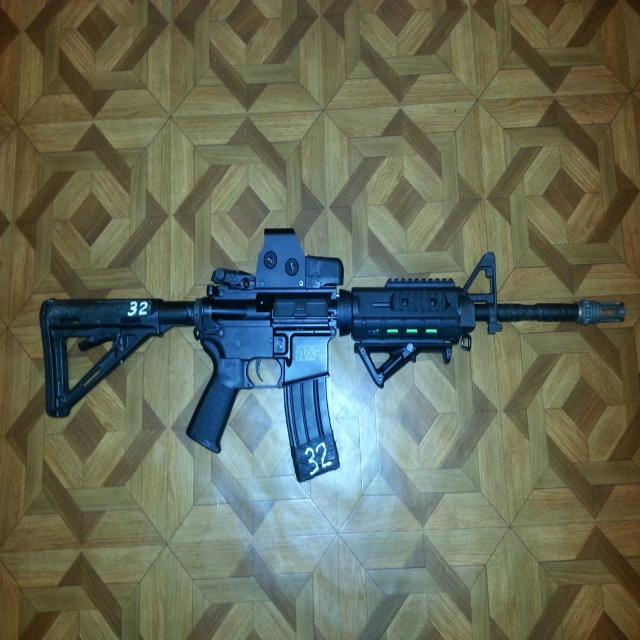firearm: (41, 228, 628, 482)
